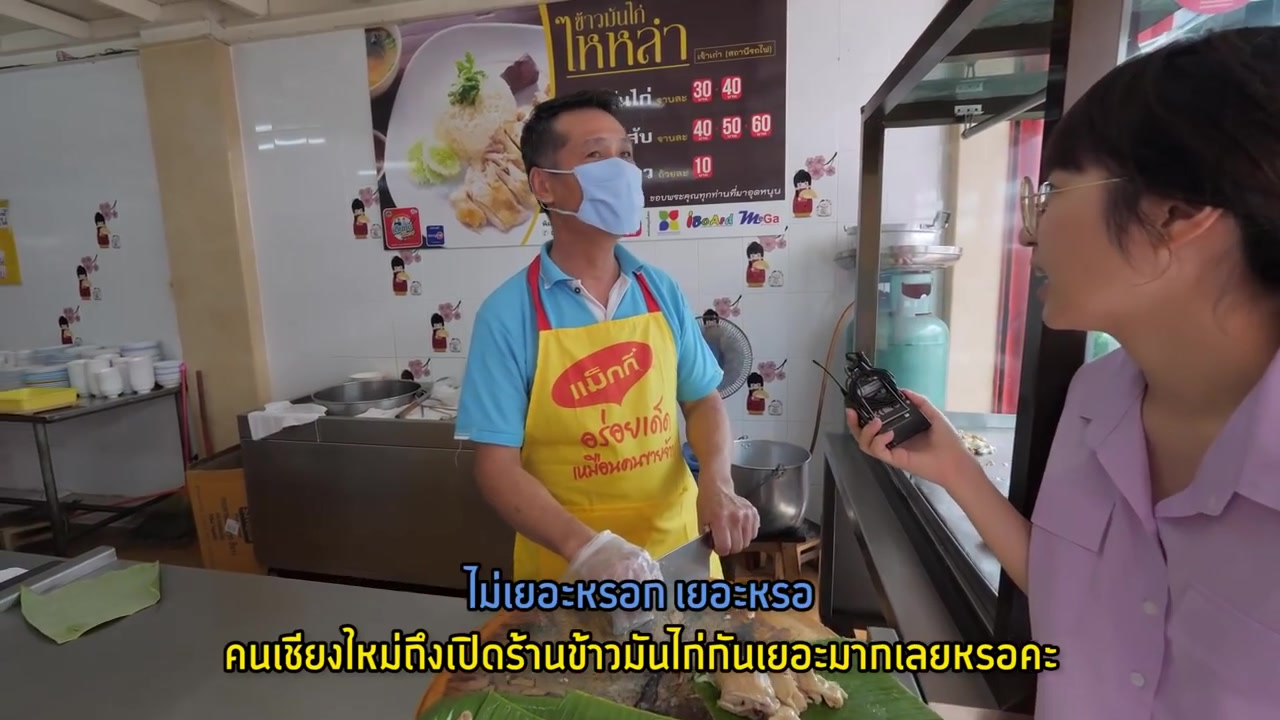text-label: (218, 619, 1062, 674), (455, 560, 816, 615)
